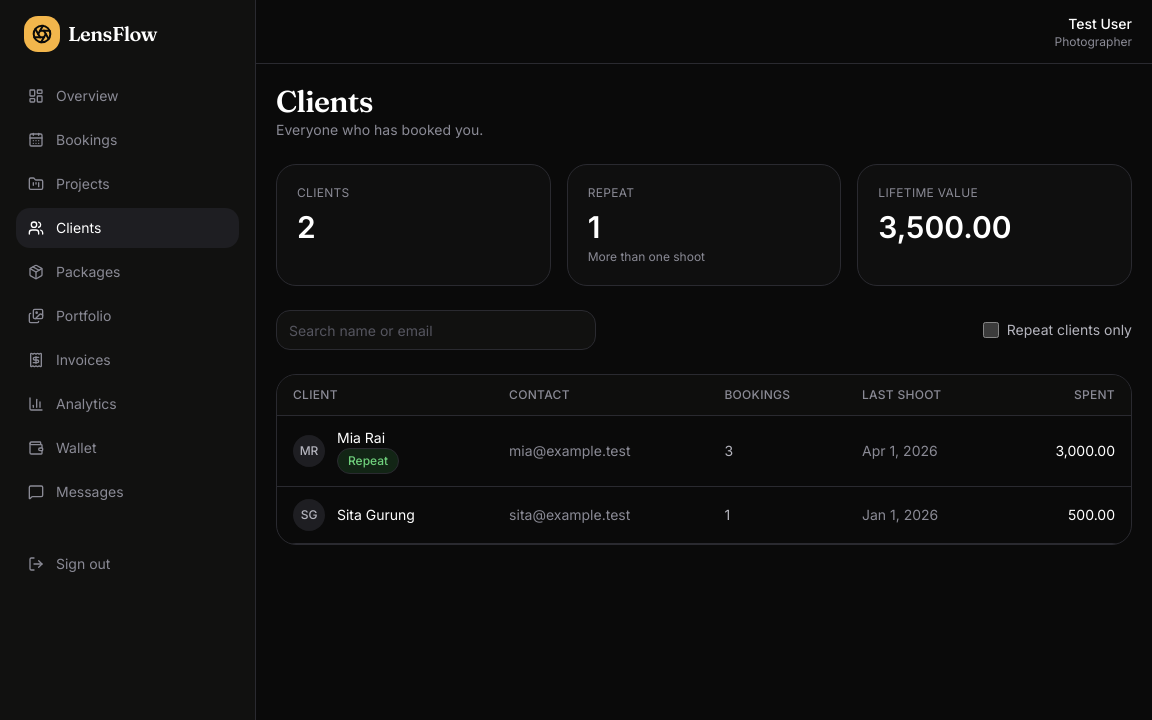
Test case: clients › narrows to repeat clients on request
Expected: the text "Mia Rai" is shown, [337,429,385,446]
Step 1. Click the checkbox labelled "Repeat clients only" → click(991, 330), box [983,322,999,338]
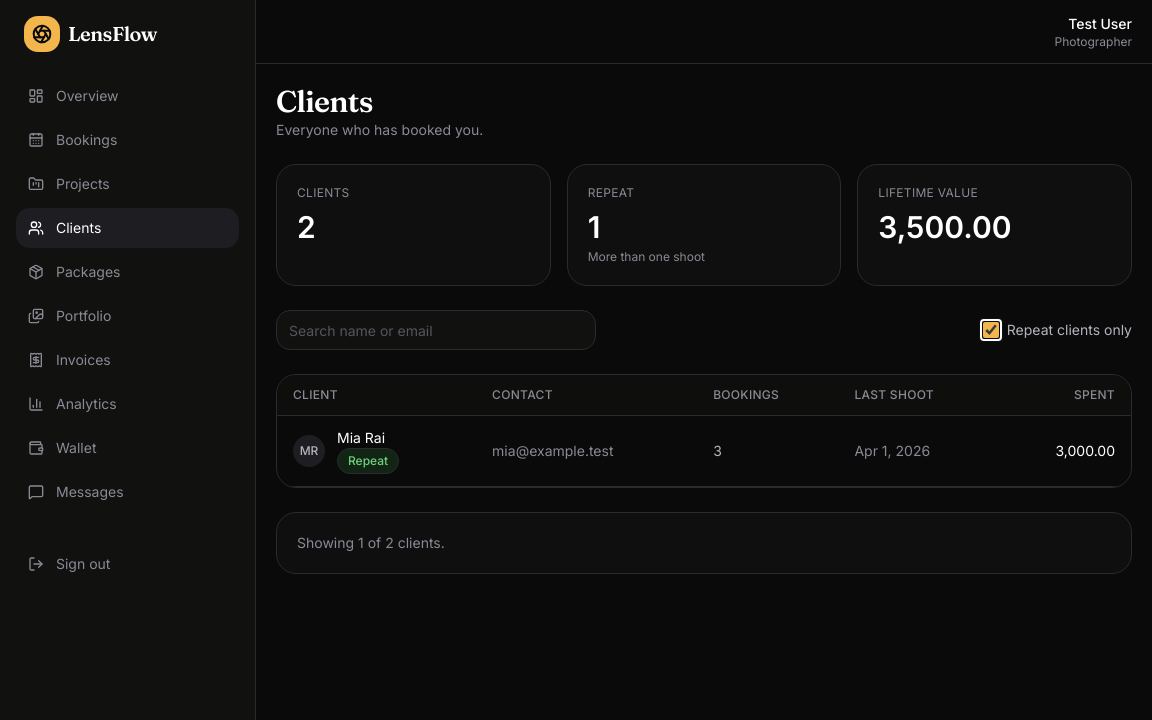
Expected: the text "Mia Rai" is shown, [337,429,385,446]
Result: the text "Sita Gurung" is gone
